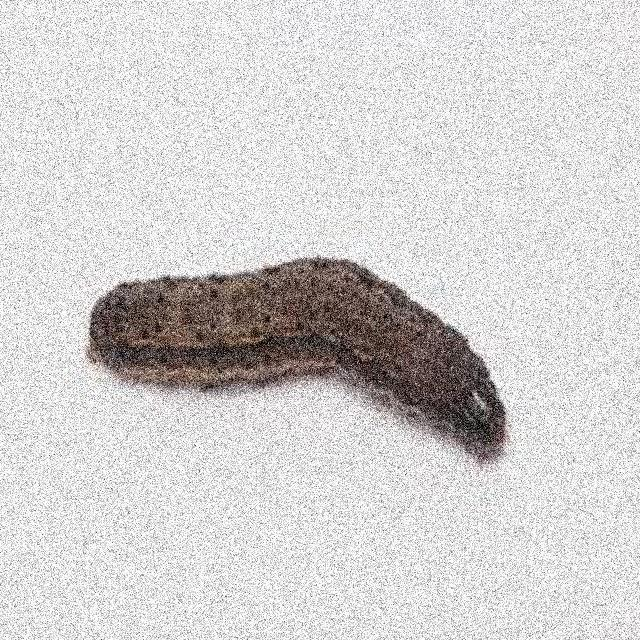gusano_cogollero: (93, 254, 505, 458)
